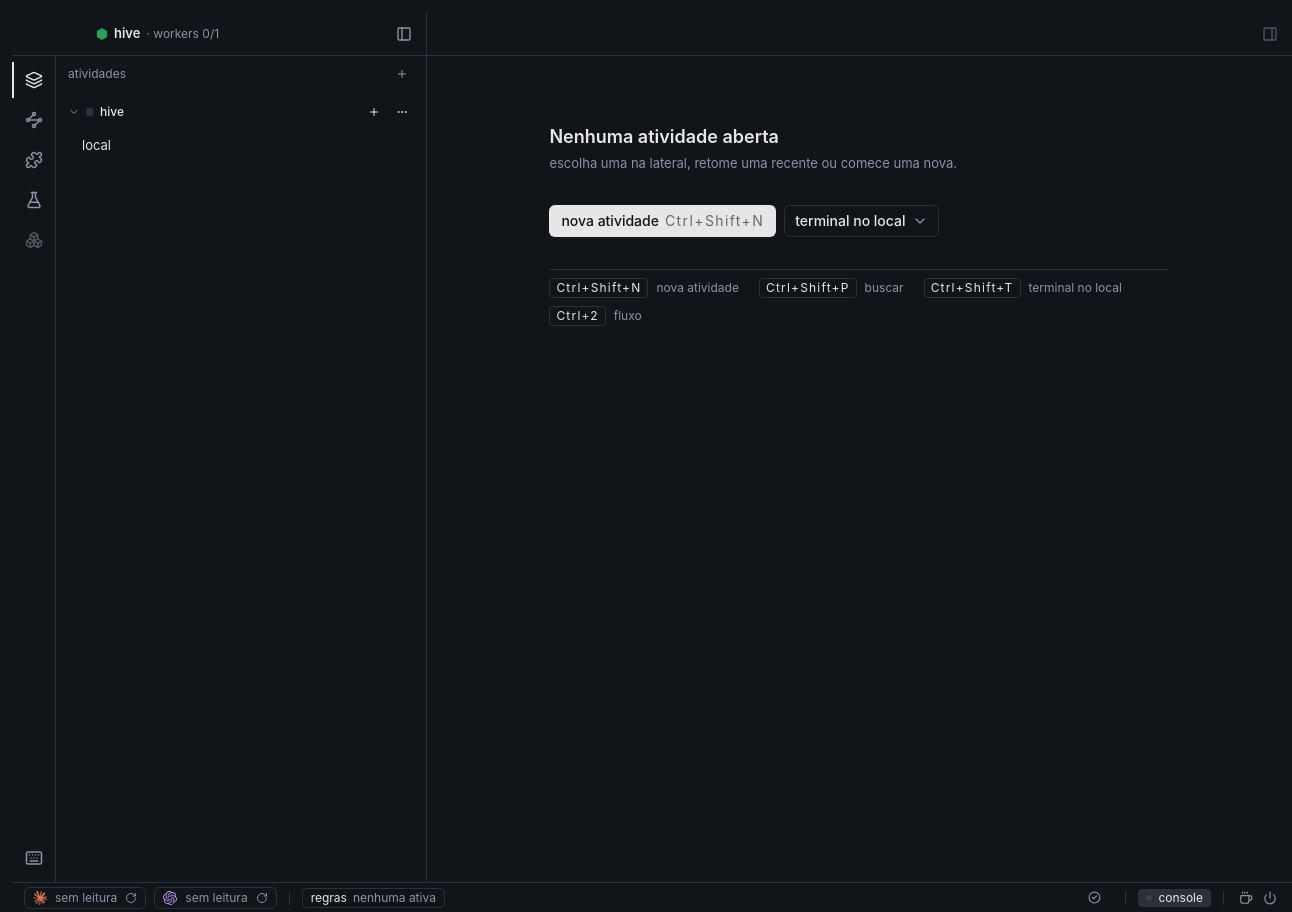
Test: a picked repository takes the center with its header on the PRs tab and its open PRs; issues shows its open issues; picking a source shows the flow again (#757,
Step 1. Click the button named "fluxo" → point(34, 120), box left=12, top=102, right=56, bottom=138
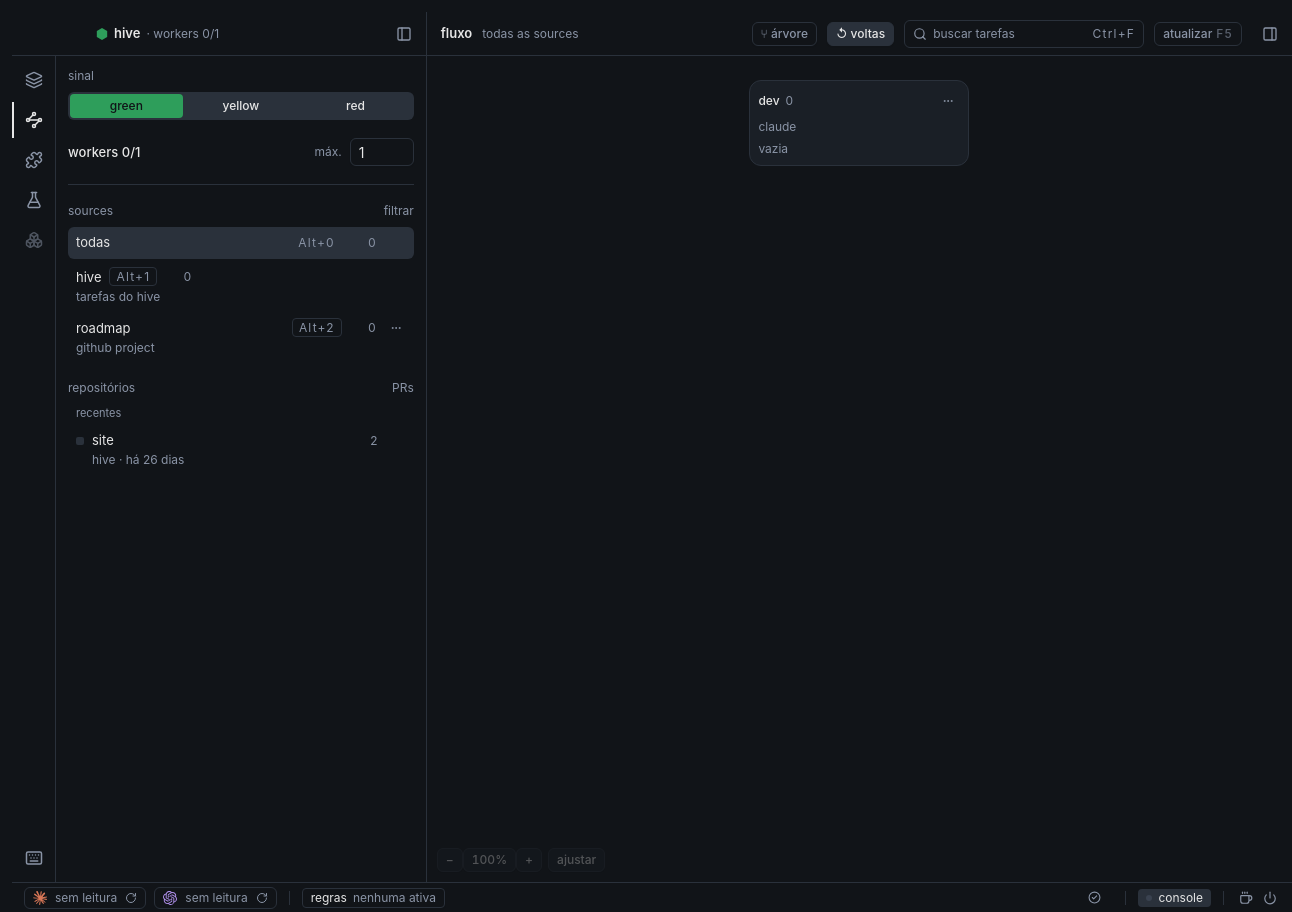
Step 2. Click the button "site 2 hive · há 26 dias" → point(138, 459), box left=68, top=425, right=414, bottom=474
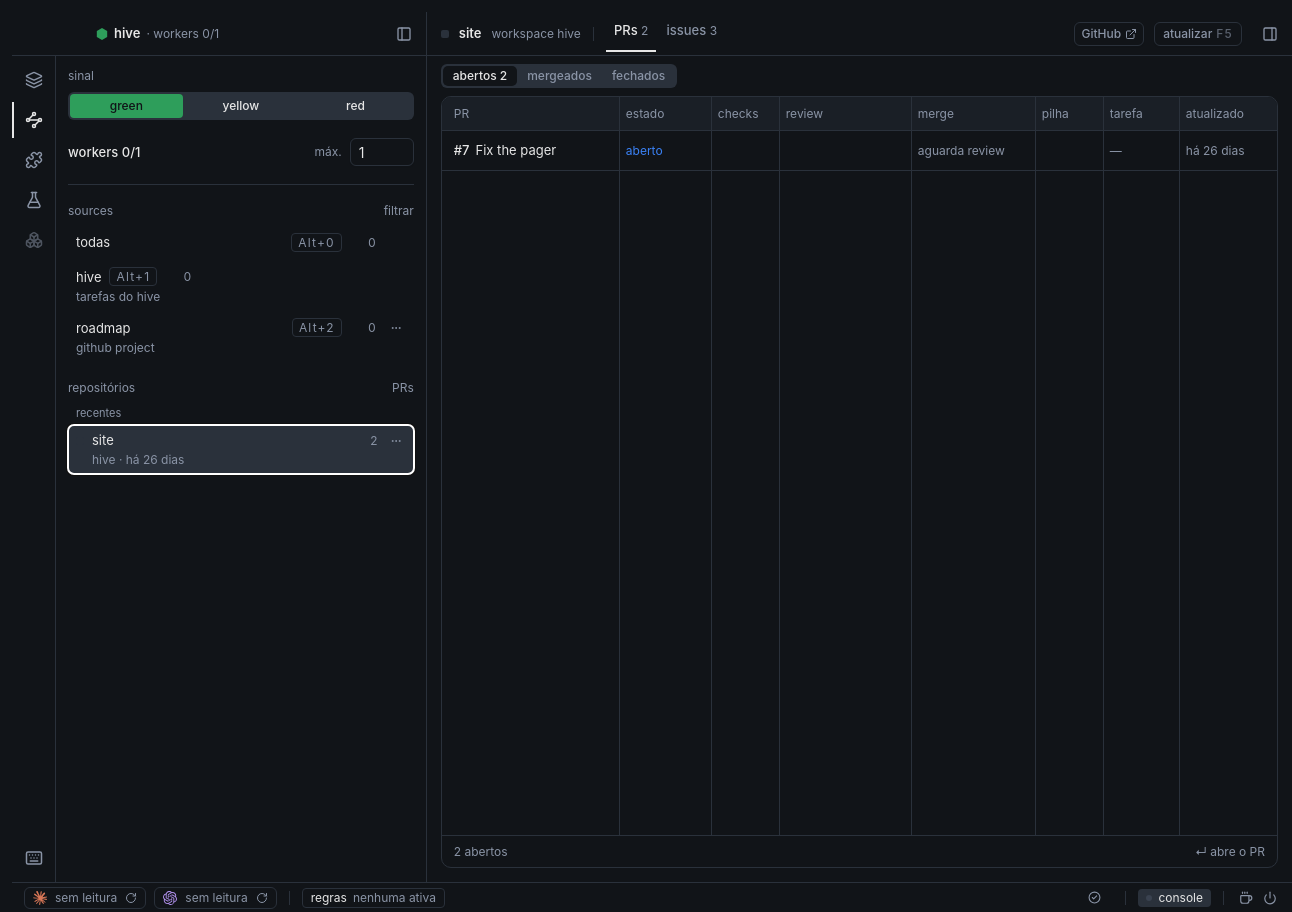
Check: the text "Fix the pager" is shown, box left=476, top=141, right=556, bottom=160
Check: the text "workspace hive" is shown, box left=492, top=26, right=581, bottom=42
Step 3. Click the tab "issues 3" → point(692, 32), box left=658, top=12, right=725, bottom=52
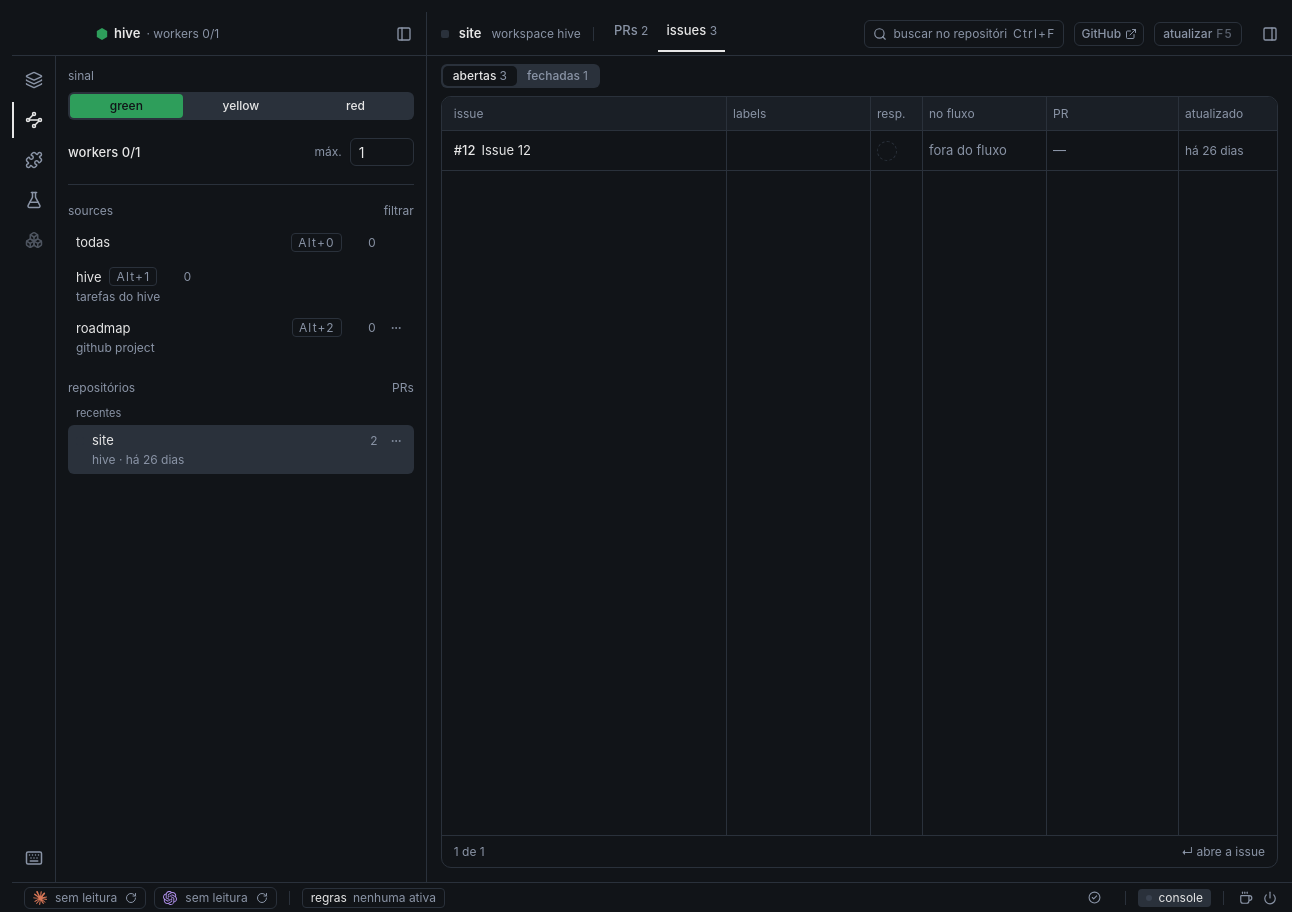
Check: the text "Issue 12" is shown, box left=482, top=141, right=531, bottom=160
Step 4. Click the button "roadmap Alt+2 0 github project" → point(103, 328), box left=68, top=313, right=414, bottom=362
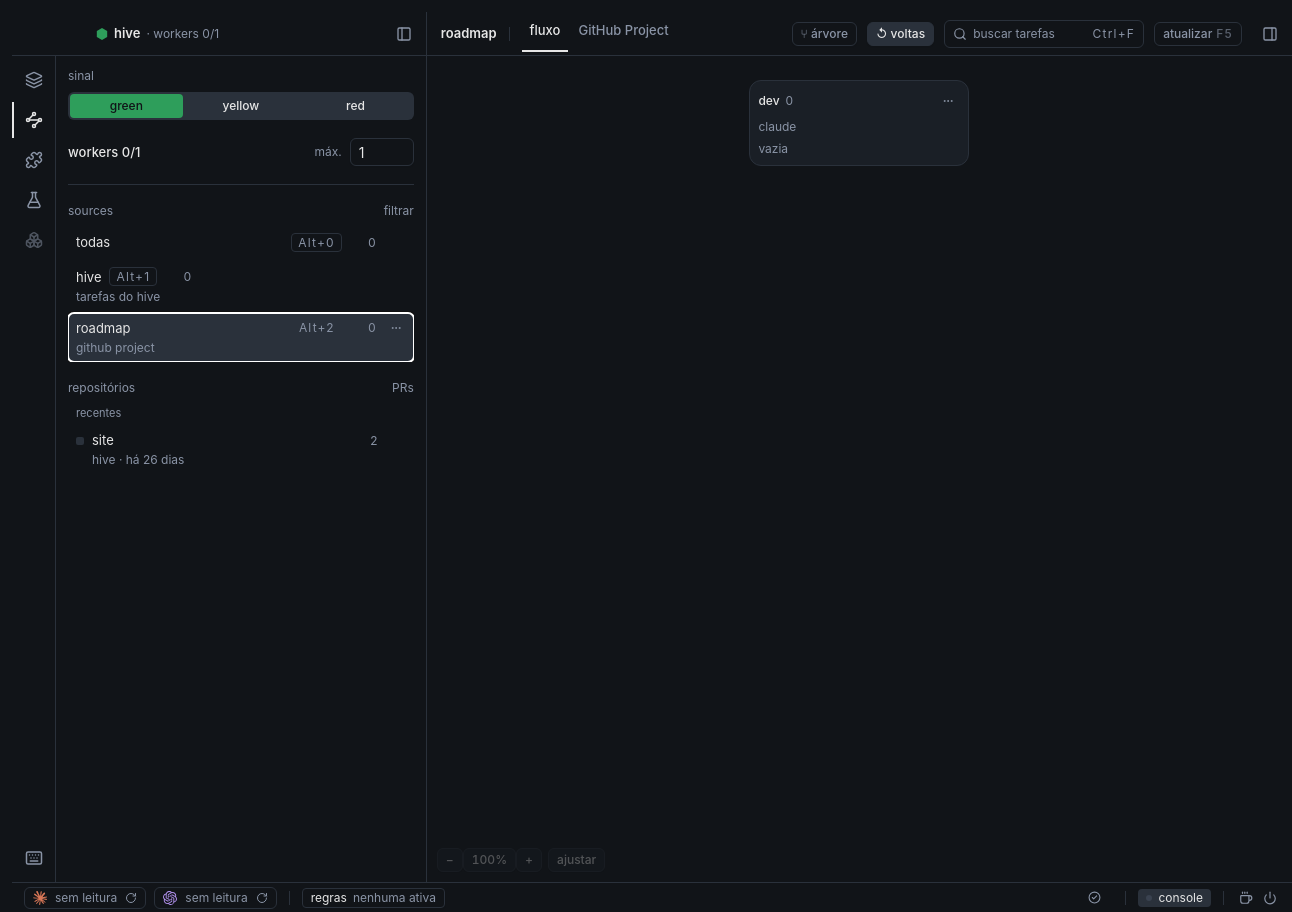
Check: the text "Issue 12" is gone
